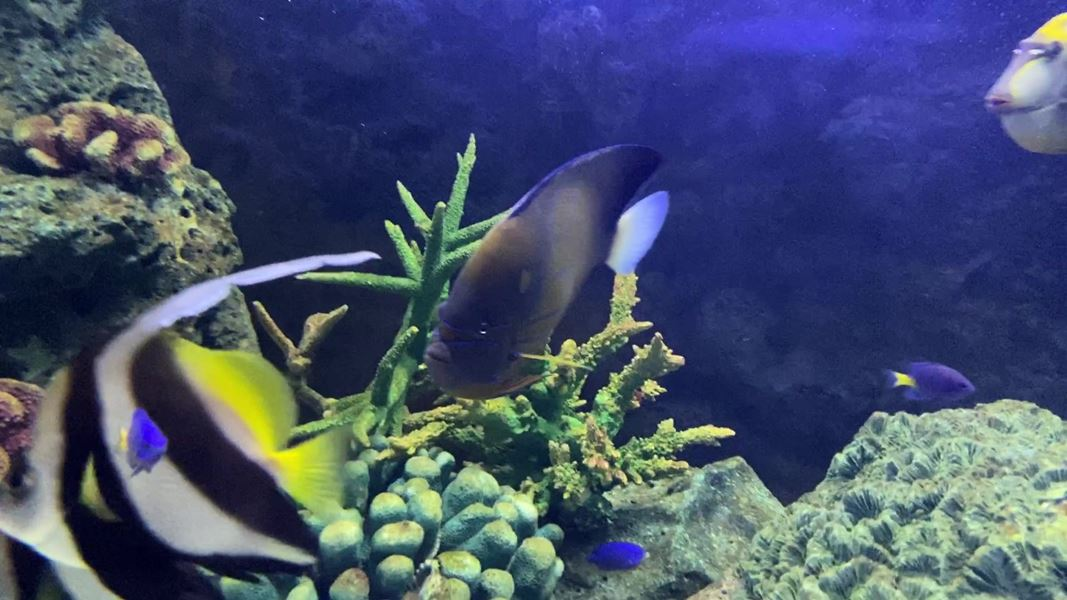Blue ring angelfish: (401, 133, 708, 418)
